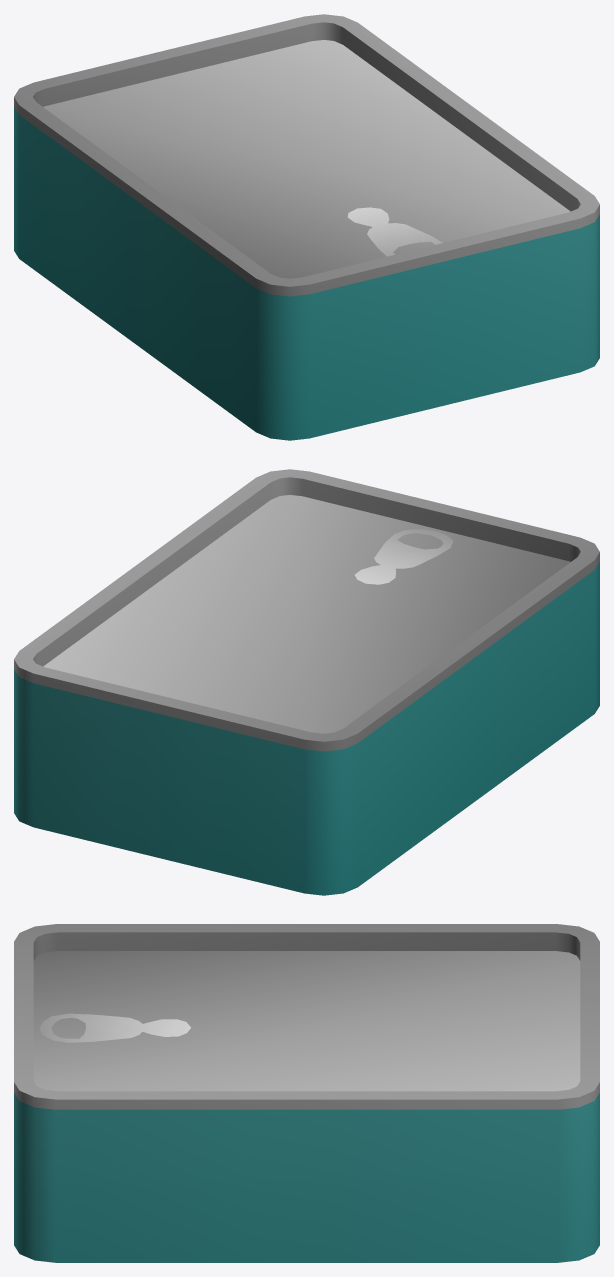
File: Fish Can_3.fbx
3 renders of one model, top to bottom at view 1: azimuth 30°, elevation 25°; view 2: azimuth 150°, elevation 25°; view 3: azimuth 270°, elevation 25°, orthographic. The views are drawn at different scales.
Parts seen in each view (by area): view 1: Fish Can_3, Fish Can_3 Top; view 2: Fish Can_3, Fish Can_3 Top; view 3: Fish Can_3, Fish Can_3 Top.
Boxes of the visible parts, x1,y1,x2,y2 form: Fish Can_3: (14, 14, 599, 440); Fish Can_3 Top: (43, 40, 570, 278); Fish Can_3: (14, 469, 599, 895); Fish Can_3 Top: (43, 495, 570, 733); Fish Can_3: (14, 924, 599, 1262); Fish Can_3 Top: (33, 951, 580, 1091).
Size of the model in its own units: 0.0994 by 0.0432 by 0.1404.
